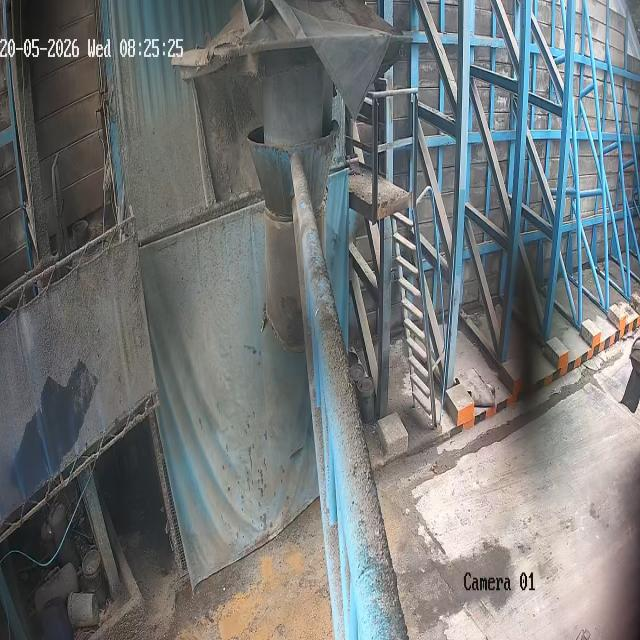cement_mixer_truck: (617, 323, 640, 440)
swing_chute: (248, 128, 338, 352)
